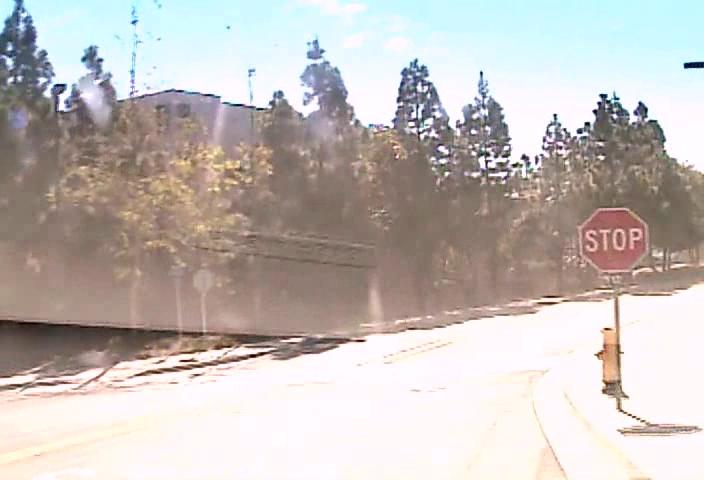stop: (578, 207, 648, 272)
